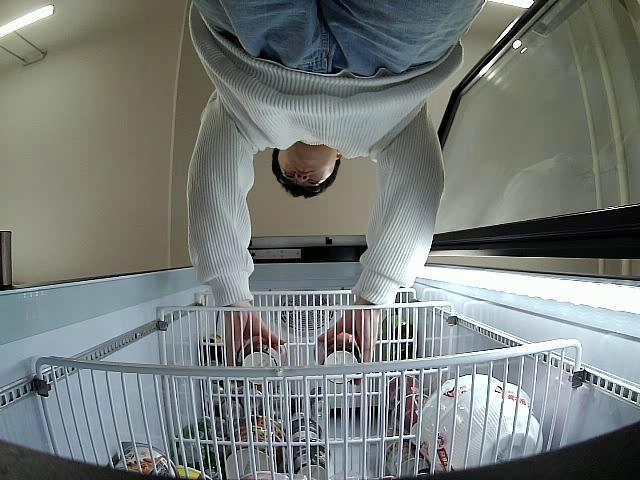02_shinRamen_S: (240, 333, 290, 384), (316, 332, 362, 384)
